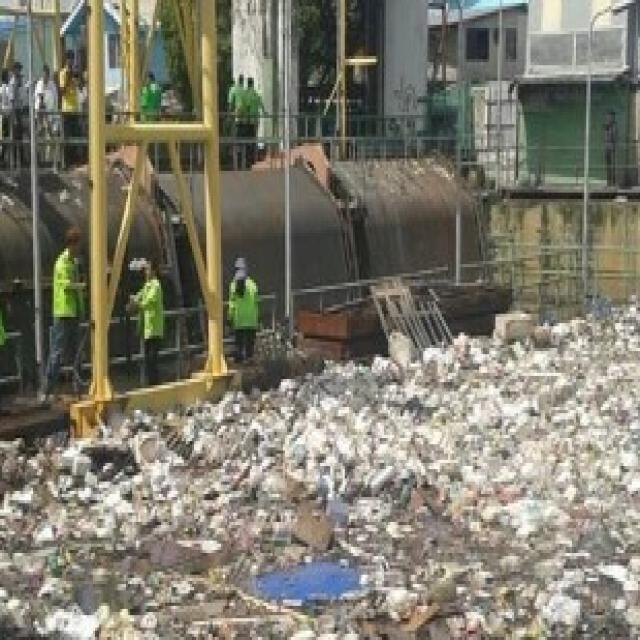-: (78, 341, 611, 640), (0, 509, 640, 640), (0, 466, 262, 628), (522, 360, 640, 640)
